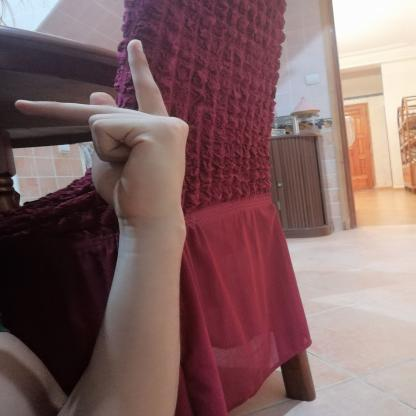DHAA: (6, 26, 198, 233)
